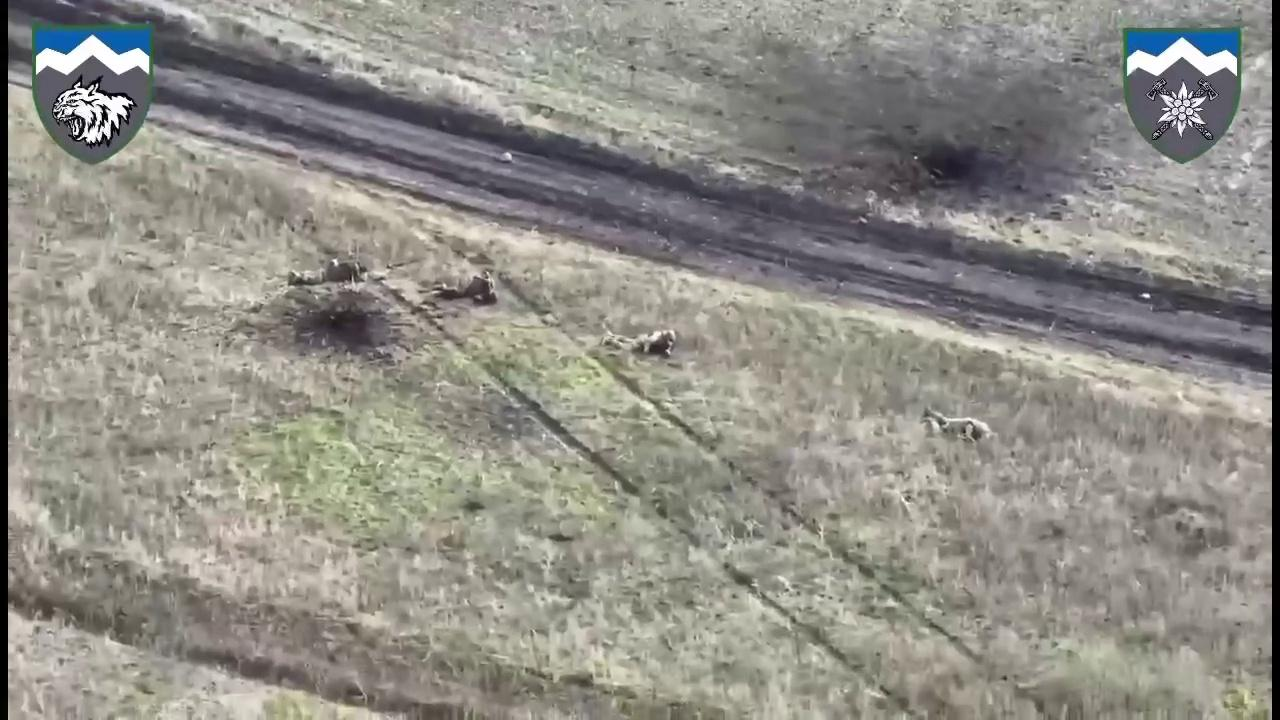person: (916, 407, 1000, 444), (287, 255, 366, 286), (599, 324, 673, 357), (435, 270, 500, 306)
